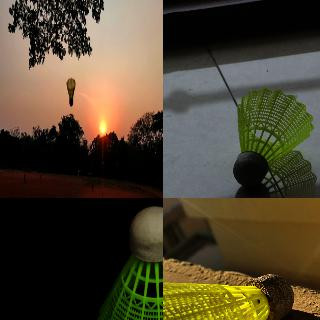shuttlecock: (233, 89, 313, 187), (95, 206, 162, 319), (163, 274, 294, 319), (66, 78, 76, 106)
